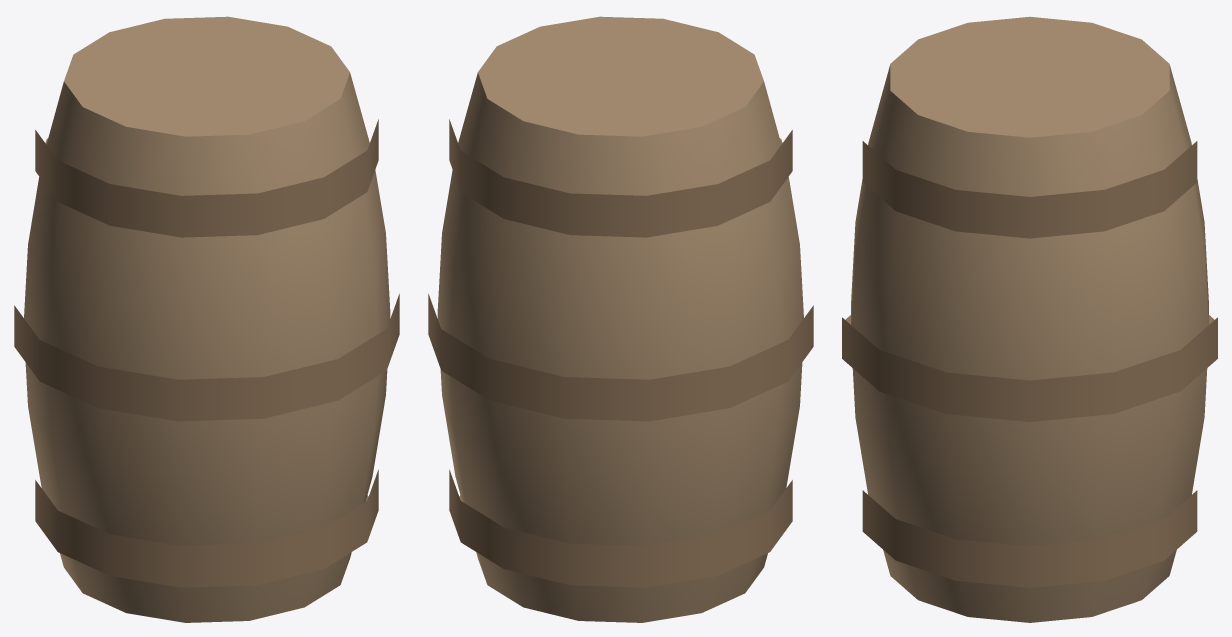
Rendered from prop_barrel_wood.glb.
3 views of the same model, side by side, from view 1: azimuth 30°, elevation 25°; view 2: azimuth 150°, elevation 25°; view 3: azimuth 270°, elevation 25° (orthographic).
Parts seen in each view (by area): view 1: prop_barrel_wood; view 2: prop_barrel_wood; view 3: prop_barrel_wood.
Boxes of the visible parts, <box> form: prop_barrel_wood: <box>14,16,399,622</box>; prop_barrel_wood: <box>428,16,813,622</box>; prop_barrel_wood: <box>842,16,1217,622</box>.
Bounding box in the file's own units: 0.756 × 1.05 × 0.7371.
